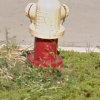Hydrant: (21, 0, 73, 73)
